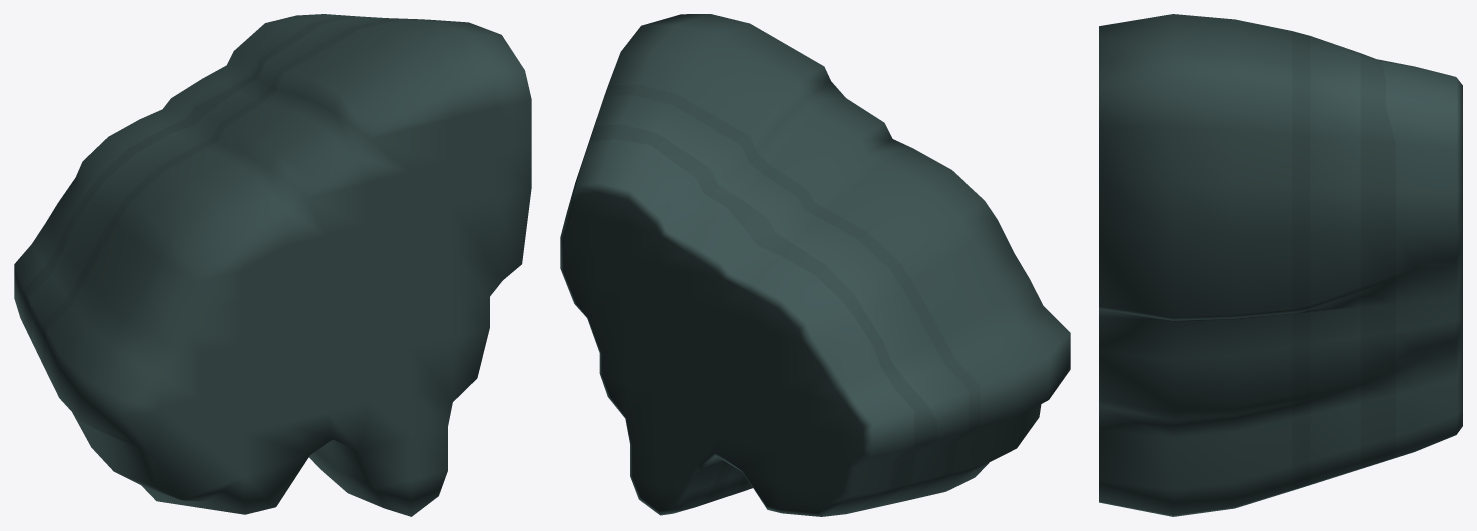
File: AlienPlateuLarge.glb
The picture shows the model from 3 angles, left to right: view 1: azimuth 30°, elevation 25°; view 2: azimuth 150°, elevation 25°; view 3: azimuth 270°, elevation 25°; orthographic projection. The views are drawn at different scales.
Parts seen in each view (by area): view 1: AlienPlateuLarge; view 2: AlienPlateuLarge; view 3: AlienPlateuLarge.
Part boxes in pixels (<box>): AlienPlateuLarge: <box>14,14,531,516</box>; AlienPlateuLarge: <box>560,14,1070,516</box>; AlienPlateuLarge: <box>1099,14,1462,516</box>.
Bounding box in the file's own units: 4509 × 4415 × 2841.
